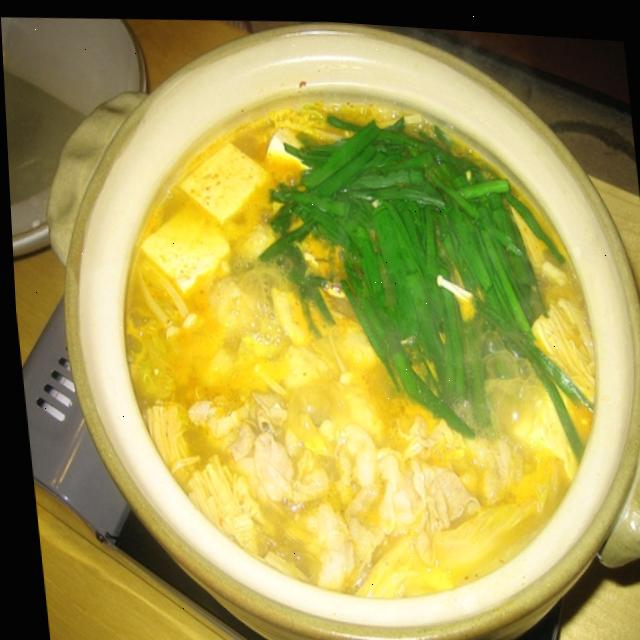汤锅炖物: (41, 2, 640, 640)
